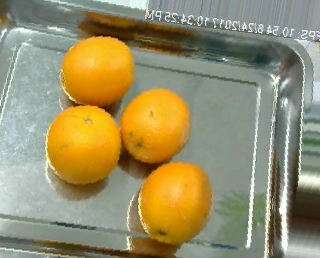Orange: (138, 160, 212, 246), (45, 105, 120, 185), (119, 86, 192, 163), (59, 35, 135, 107)
